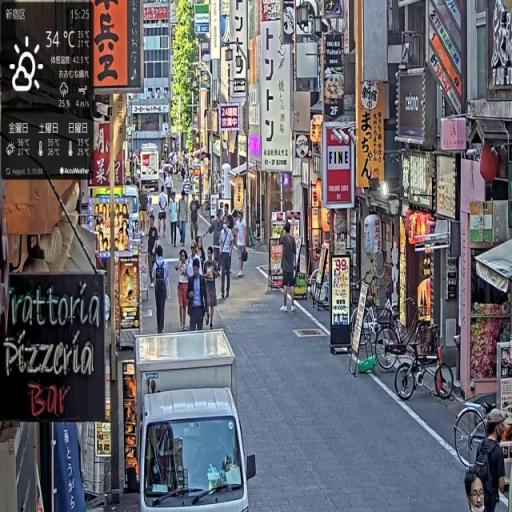person: (472, 409, 509, 512), (280, 220, 299, 313), (153, 244, 172, 337), (187, 259, 209, 331), (219, 211, 236, 302), (176, 246, 192, 333), (204, 246, 220, 330), (235, 212, 249, 280), (147, 213, 160, 285), (169, 191, 181, 248), (179, 192, 189, 249), (158, 188, 169, 239), (190, 195, 200, 246)
